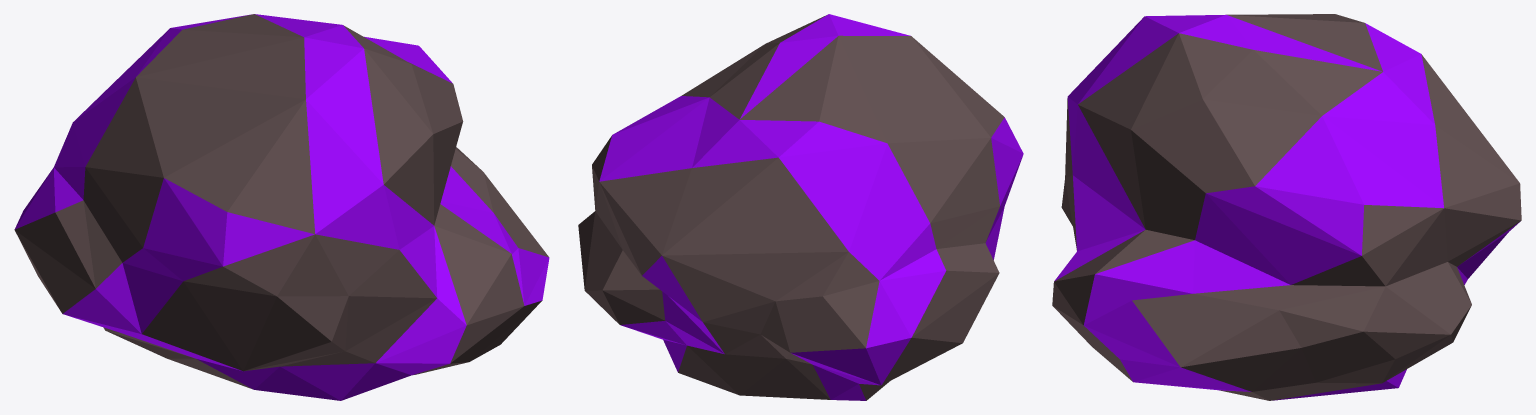
File: Natural_E.fbx
3 renders of one model, left to right at view 1: azimuth 30°, elevation 25°; view 2: azimuth 150°, elevation 25°; view 3: azimuth 270°, elevation 25°, orthographic. The views are drawn at different scales.
Visible parts, largest first — view 1: Cube; view 2: Cube; view 3: Cube.
Boxes of the visible parts, left/top/right/bottom form: Cube: left=14, top=14, right=549, bottom=400; Cube: left=578, top=14, right=1023, bottom=400; Cube: left=1052, top=14, right=1521, bottom=400.
Bounding box in the file's own units: 2.5 × 2 × 2.5.
